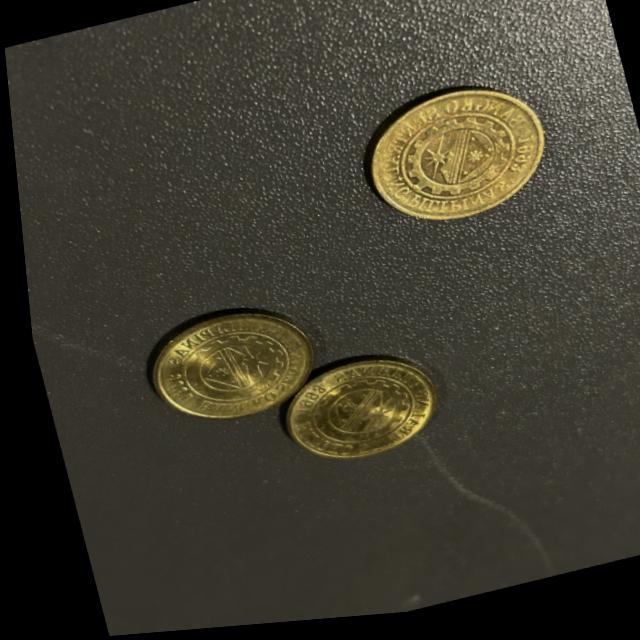25Cent_Old_Back: (362, 94, 539, 235), (147, 313, 305, 431), (278, 359, 426, 471)
